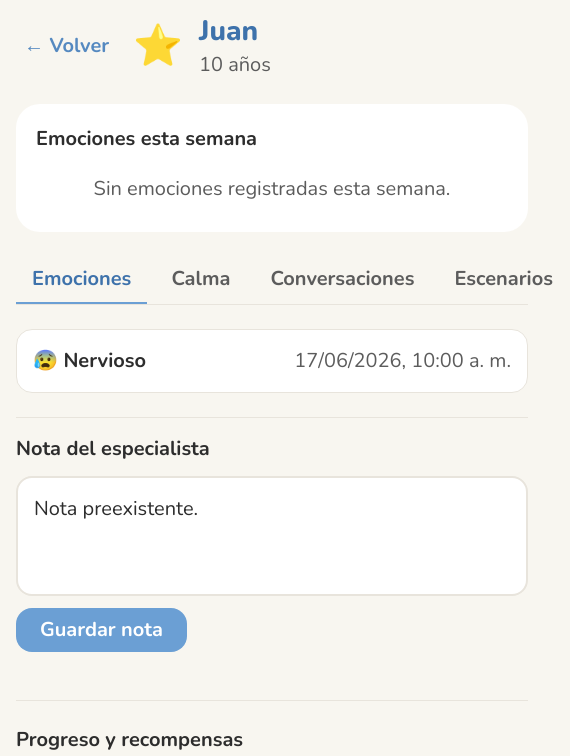
Scenario: ChildDetail › muestra conversaciones expandibles con mensajes
Click the button "Conversaciones" at [342, 280], box top-left (254, 256), bottom-right (430, 304)
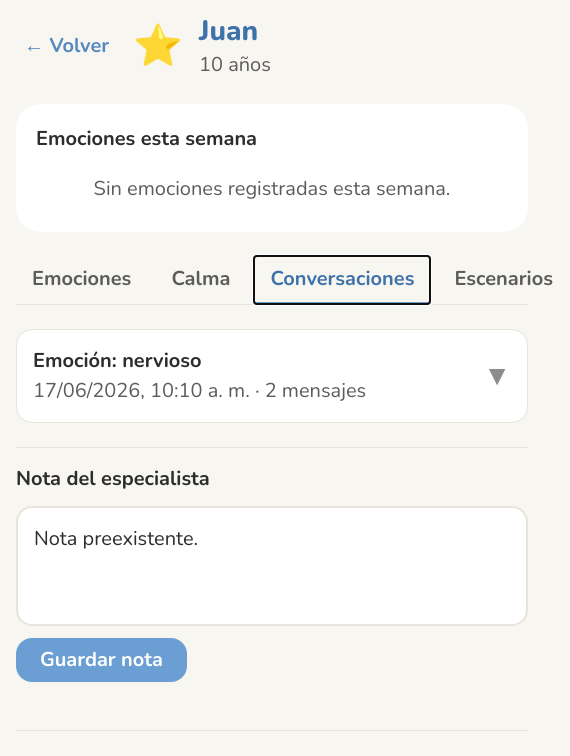
Expected: the text "Emoción: nervioso" is shown, top-left (33, 347), bottom-right (202, 374)
Expandir la conversación
Click the button with aria-label "expandir" at [272, 376], box top-left (17, 330), bottom-right (527, 422)
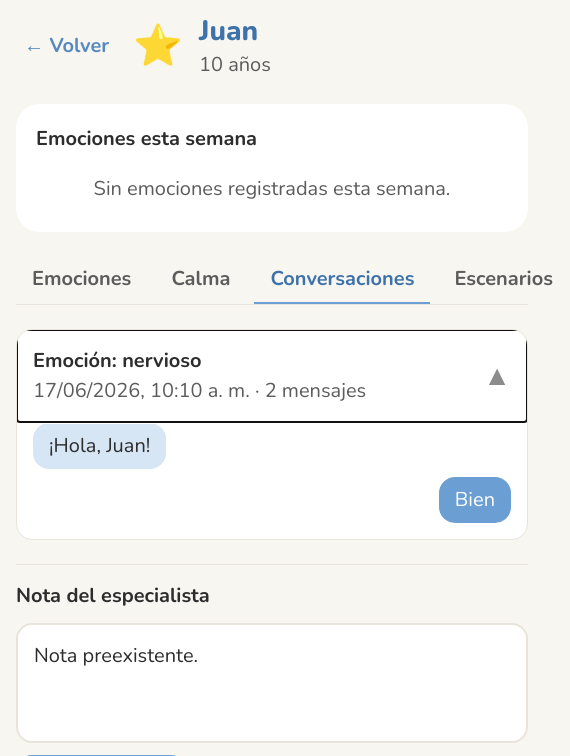
Now the text "¡Hola, Juan!" is shown, box top-left (33, 423), bottom-right (166, 469)
Now the text "Bien" is shown, box top-left (439, 477), bottom-right (511, 523)
